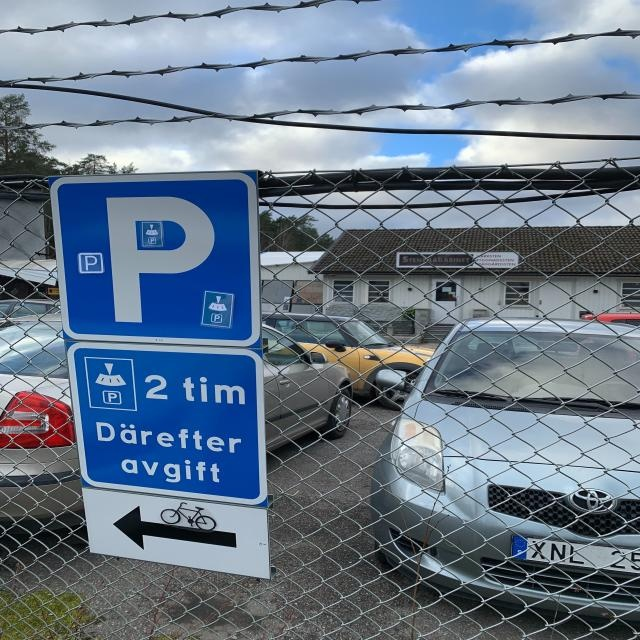avstignnigsplats: (57, 170, 263, 340)
